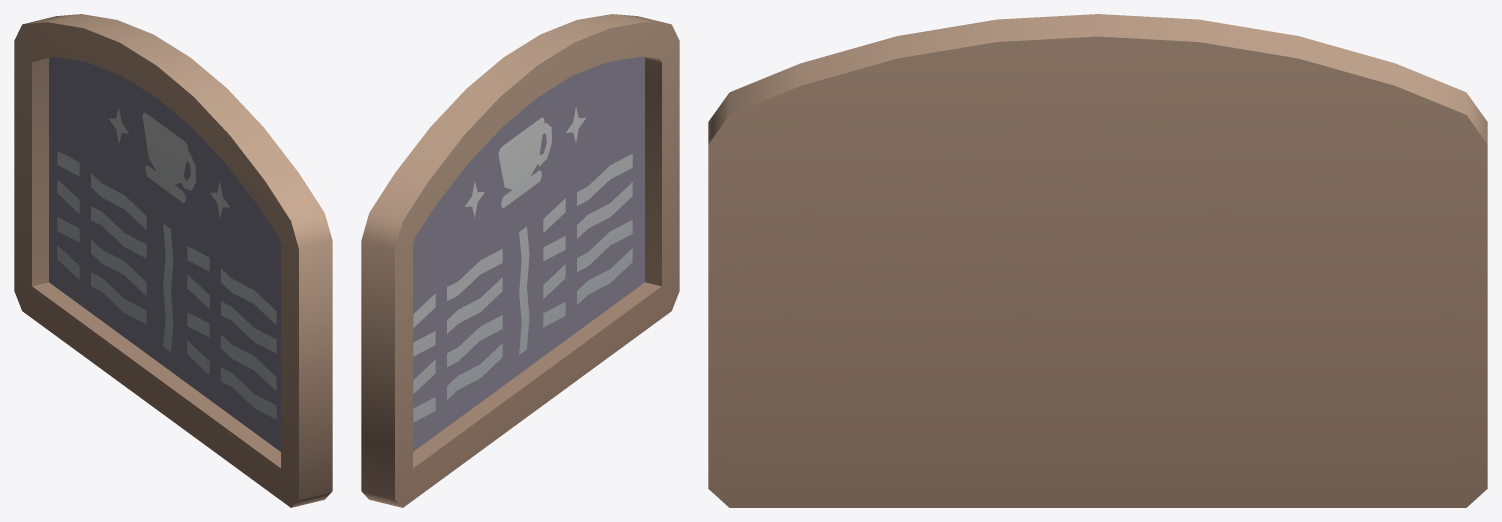
File: chalkboard-sign-hanging-curved (%wall).glb
The picture shows the model from 3 angles, left to right: view 1: azimuth 30°, elevation 25°; view 2: azimuth 150°, elevation 25°; view 3: azimuth 270°, elevation 25°; orthographic projection. The views are drawn at different scales.
Visible parts, largest first — view 1: chalkboard-sign-hanging-curved (%wall); view 2: chalkboard-sign-hanging-curved (%wall); view 3: chalkboard-sign-hanging-curved (%wall).
Boxes of the visible parts, left/top/right/bottom form: chalkboard-sign-hanging-curved (%wall): left=14, top=14, right=332, bottom=507; chalkboard-sign-hanging-curved (%wall): left=361, top=14, right=679, bottom=507; chalkboard-sign-hanging-curved (%wall): left=708, top=14, right=1487, bottom=507.
Size of the model in its own units: 0.0638 by 0.6219 by 0.932.
